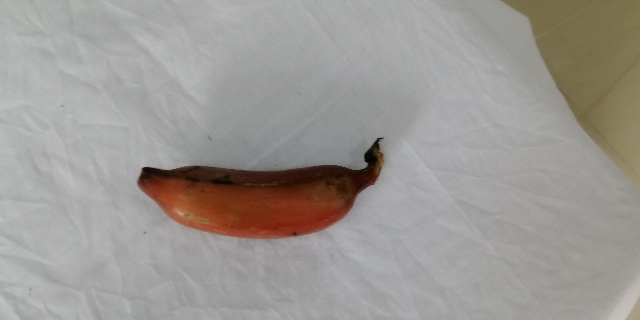banana_red: (136, 132, 394, 244)
